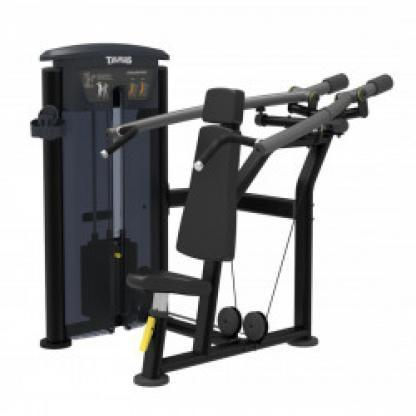shoulder press machine: (29, 41, 392, 388)
